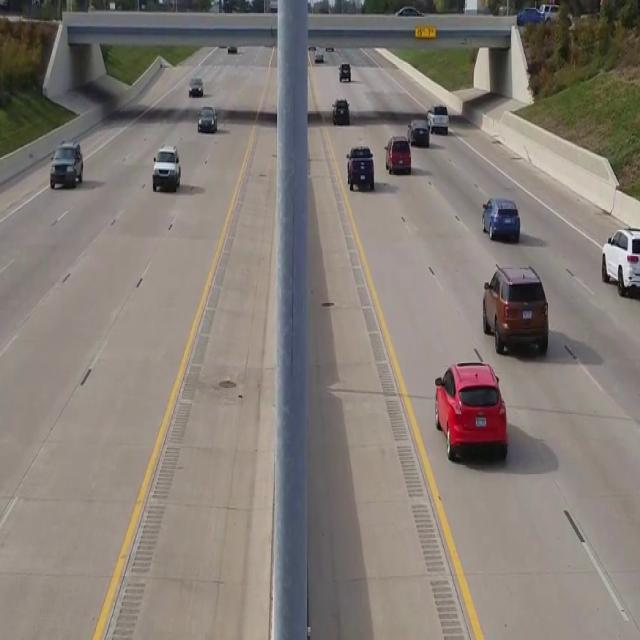car: (433, 359, 508, 461), (482, 264, 548, 354), (601, 227, 640, 299), (482, 196, 520, 243), (49, 140, 83, 188), (152, 145, 180, 191), (346, 145, 374, 191), (385, 137, 410, 174), (197, 105, 217, 133), (332, 98, 348, 124), (188, 76, 203, 96)
